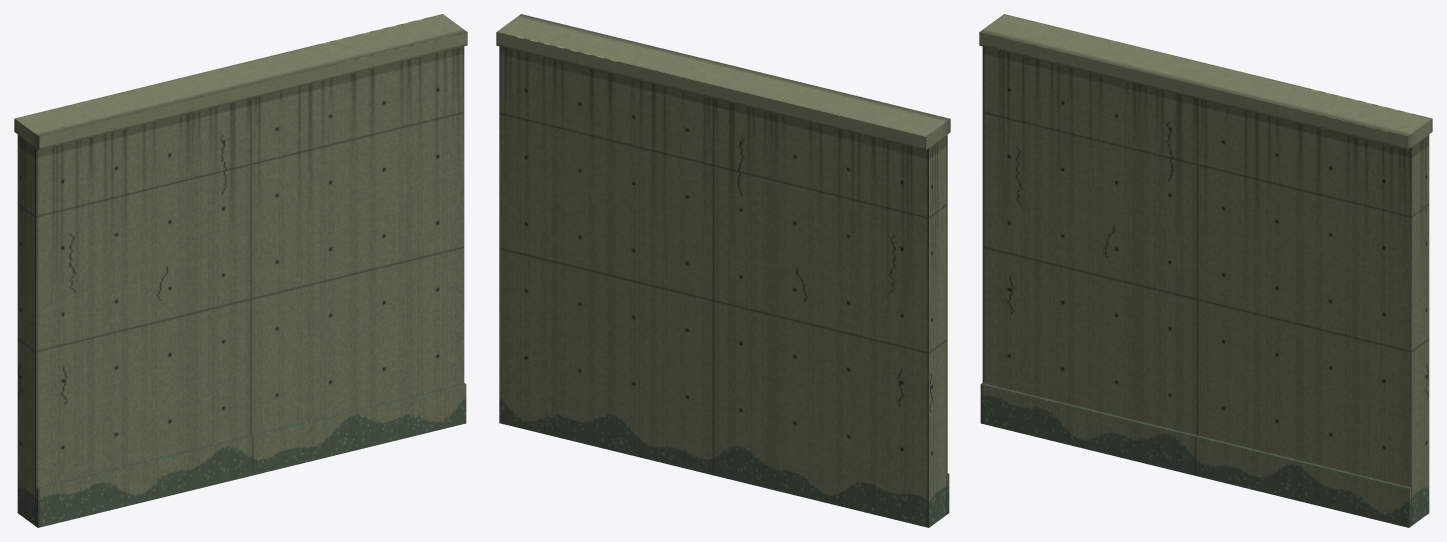
File: SM_Forest_Wall_Concrete_400x40x350.fbx
3 views of the same model, side by side, from view 1: azimuth 30°, elevation 25°; view 2: azimuth 150°, elevation 25°; view 3: azimuth 330°, elevation 25° (orthographic).
Parts seen in each view (by area): view 1: SM_Forest_Wall_Concrete_400x40x350.008; view 2: SM_Forest_Wall_Concrete_400x40x350.008; view 3: SM_Forest_Wall_Concrete_400x40x350.008.
Boxes of the visible parts, left/top/right/bottom form: SM_Forest_Wall_Concrete_400x40x350.008: left=14, top=14, right=467, bottom=527; SM_Forest_Wall_Concrete_400x40x350.008: left=496, top=14, right=950, bottom=527; SM_Forest_Wall_Concrete_400x40x350.008: left=979, top=14, right=1432, bottom=527.
Bounding box in the file's own units: 4 × 3.5 × 0.4.
